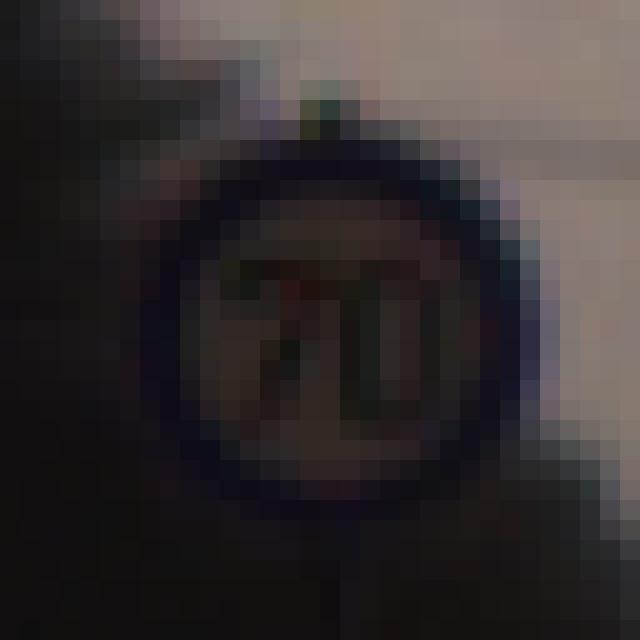SPEED LIMIT 70: (144, 141, 552, 500)
